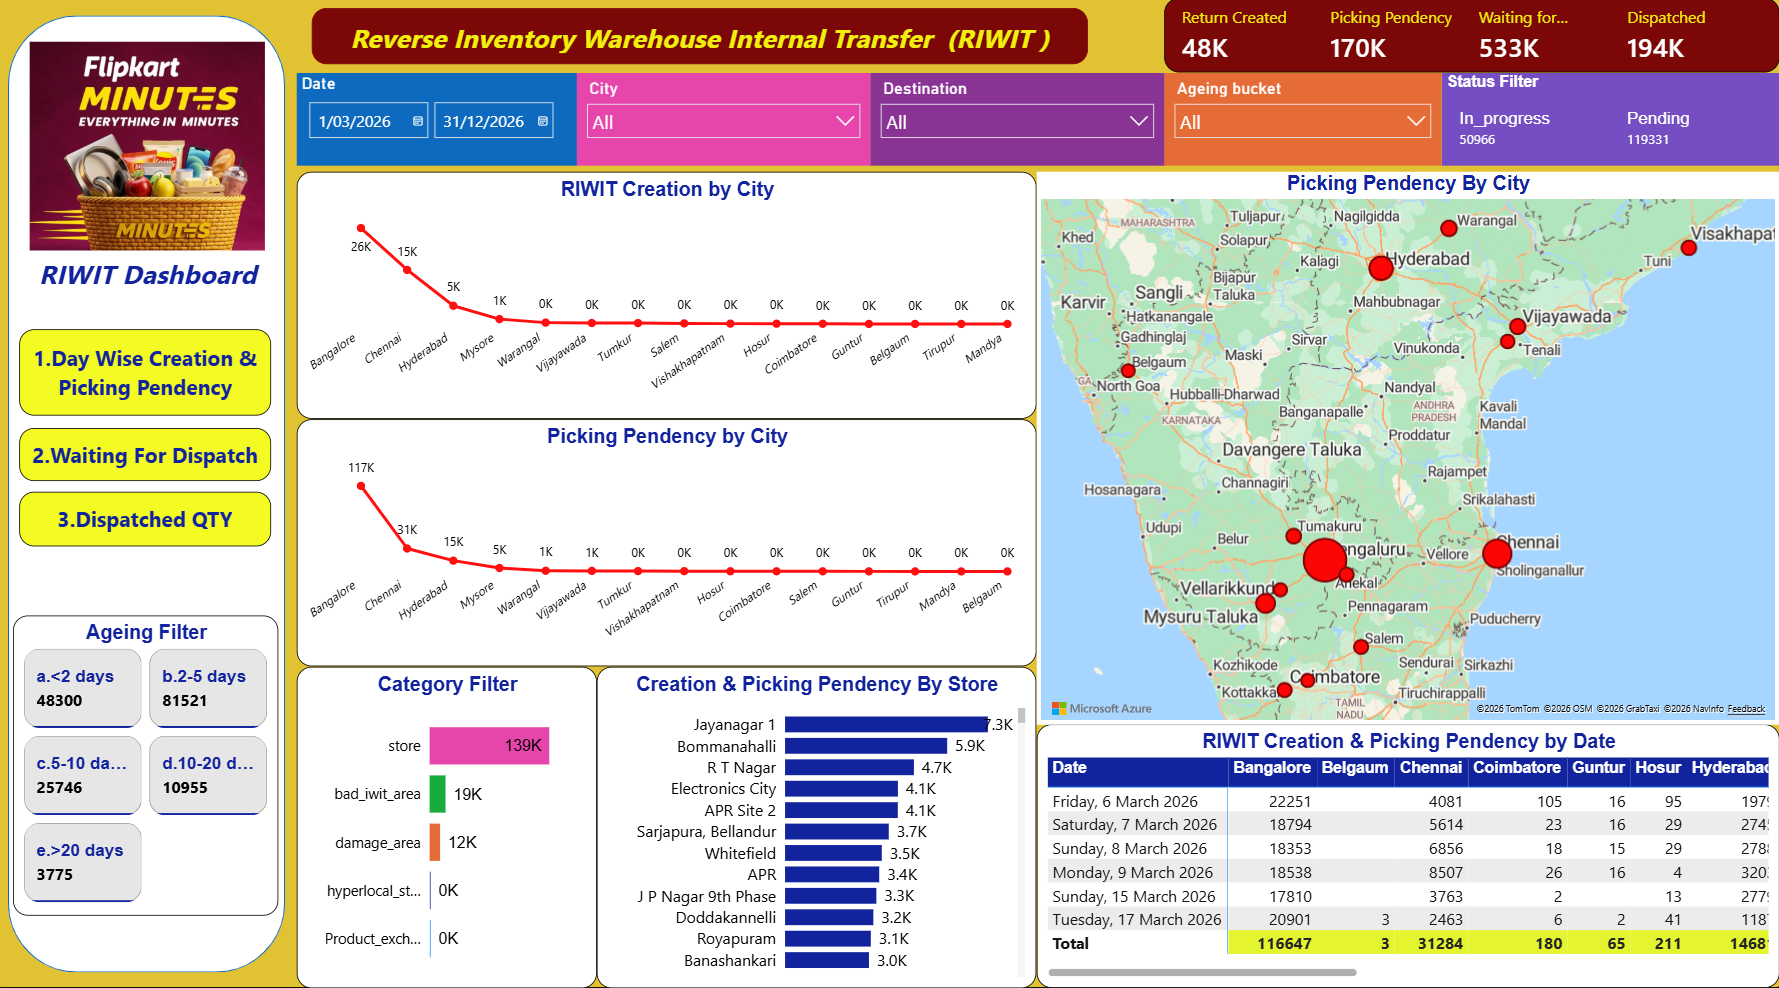

The page's visual inventory and layout, read from the dashboard file:
{"tool":"powerbi","page":{"name":"Creation &  Picking Pendency","canvas":[1800,1000],"ordinal":0},"visuals":[{"type":"shape","box":[9.6,17.4,279.8,966.8],"z":0},{"type":"slicer","title":"Date","fields":{"Values":["Date.Date"]},"box":[301.6,75.4,283.2,93.8],"z":1000},{"type":"lineChart","title":"RIWIT Creation by City","fields":{"Category":["Picking Raw Data.City"],"Y":["Sum(Picking Raw Data.Process qty)"]},"box":[301.6,175.9,747.3,249.7],"z":2000},{"type":"pivotTable","title":"RIWIT Creation & Picking Pendency by Date","fields":{"Values":["Sum(Picking Raw Data.Process qty)"],"Rows":["Date.Date"],"Columns":["Picking Raw Data.City"]},"box":[1048.9,733.9,750.7,266.4],"z":3000},{"type":"slicer","title":"Date","fields":{"Values":["Cities Table.City"]},"box":[584.8,75.4,296.6,93.8],"z":4000},{"type":"clusteredBarChart","title":"Creation & Picking Pendency By Store","fields":{"Category":["Picking Raw Data.Store Name"],"Y":["Sum(Picking Raw Data.Process qty)"]},"box":[604.9,675.3,444,325.1],"z":5000},{"type":"barChart","title":"Category Filter","fields":{"Y":["Sum(Picking Raw Data.Process qty)"],"Category":["Picking Raw Data.Source"]},"box":[301.6,675.3,303.3,325.1],"z":6000},{"type":"advancedSlicerVisual","title":"Status Filter","fields":{"Label":["Sum(Picking Raw Data.Process qty)"],"Values":["Picking Raw Data.Status"]},"box":[1457.8,75.6,341.8,93.8],"z":7000},{"type":"image","box":[0,43.6,301.6,237.9],"z":8000},{"type":"lineChart","title":"Picking Pendency by City","fields":{"Category":["Picking Raw Data.City"],"Y":["Sum(Picking Raw Data.Process qty)"]},"box":[301.6,425.6,747.3,249.7],"z":9000},{"type":"textbox","box":[26.8,254.7,249.7,57],"z":10000},{"type":"slicer","title":"Date","fields":{"Values":["Picking Raw Data.Ageing bucket"]},"box":[1178,75.6,279.8,93.8],"z":11000},{"type":"actionButton","box":[21.8,335.1,254.7,87.1],"z":12000},{"type":"actionButton","box":[21.8,434,254.7,53.6],"z":13000},{"type":"actionButton","box":[21.8,499.3,254.7,55.3],"z":14000},{"type":"slicer","title":"Date","fields":{"Values":["Picking Raw Data.Destination"]},"box":[881.4,75.4,296.6,93.8],"z":15000},{"type":"textbox","box":[316.7,10.1,784.2,57],"z":16000},{"type":"azureMap","title":" Picking Pendency By City","fields":{"Size":["Sum(Picking Raw Data.Process qty)"],"Category":["Picking Raw Data.Pincode"]},"box":[1048.9,175.9,750.7,558],"z":17000},{"type":"advancedSlicerVisual","title":"Ageing Filter","fields":{"Label":["Sum(Picking Raw Data.Process qty)"],"Values":["Picking Raw Data.Ageing bucket"]},"box":[15.1,623.3,268.1,303.3],"z":18000},{"type":"cardVisual","fields":{"Data":["ALL Measures.Return Created (<2 Days)","ALL Measures.Total Picking Pendency","ALL Measures.Picking Pendency","ALL Measures.Dispatched"]},"box":[1178,0,621.7,75.4],"z":19000}]}

Visuals, with their boxes in screenshot pixels (x1, y1, x2, y2), scaled from the page's 1800x1000 canvas onto the 1779x988 screenshot:
shape: detection(9, 17, 286, 972)
"Date" slicer: detection(298, 74, 578, 167)
"RIWIT Creation by City" lineChart: detection(298, 174, 1037, 420)
"RIWIT Creation & Picking Pendency by Date" pivotTable: detection(1037, 725, 1778, 987)
"Date" slicer: detection(578, 74, 871, 167)
"Creation & Picking Pendency By Store" clusteredBarChart: detection(598, 667, 1037, 987)
"Category Filter" barChart: detection(298, 667, 598, 987)
"Status Filter" advancedSlicerVisual: detection(1441, 75, 1778, 167)
image: detection(0, 43, 298, 278)
"Picking Pendency by City" lineChart: detection(298, 420, 1037, 667)
textbox: detection(26, 252, 273, 308)
"Date" slicer: detection(1164, 75, 1441, 167)
actionButton: detection(22, 331, 273, 417)
actionButton: detection(22, 429, 273, 482)
actionButton: detection(22, 493, 273, 548)
"Date" slicer: detection(871, 74, 1164, 167)
textbox: detection(313, 10, 1088, 66)
" Picking Pendency By City" azureMap: detection(1037, 174, 1778, 725)
"Ageing Filter" advancedSlicerVisual: detection(15, 616, 280, 915)
cardVisual - ALL Measures.Return Created (<2 Days) x ALL Measures.Total Picking Pendency: detection(1164, 0, 1778, 74)
